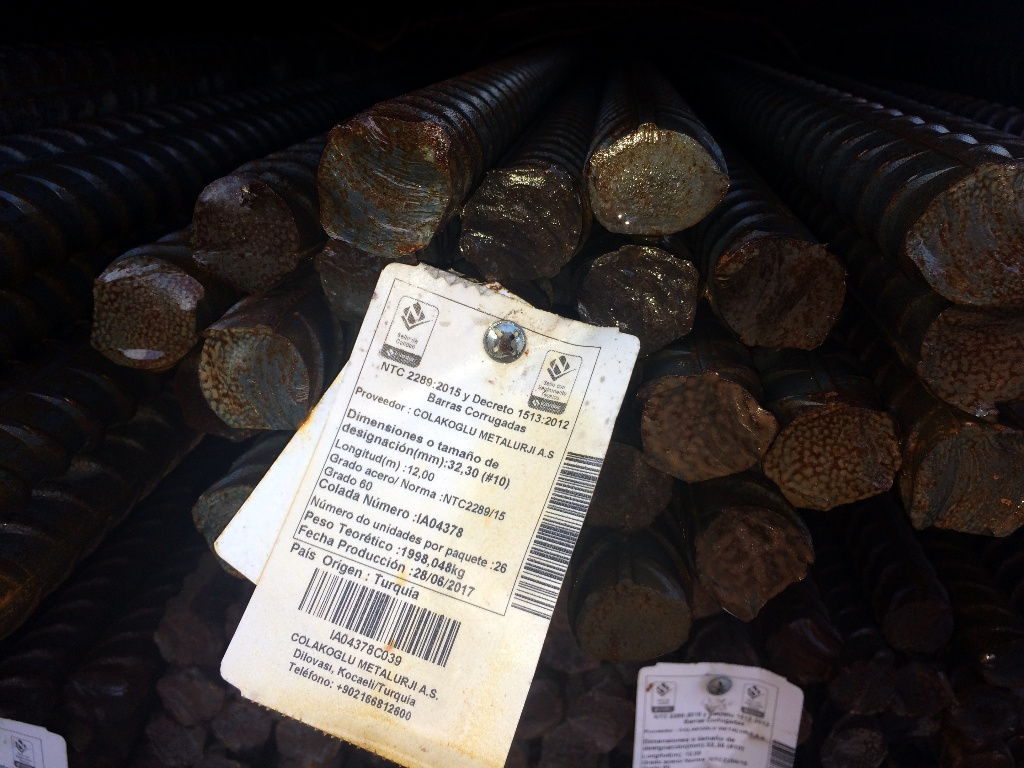dipstick: (323, 124, 448, 260), (708, 242, 849, 348), (914, 167, 1024, 301), (637, 377, 776, 481), (585, 134, 722, 235), (764, 409, 889, 515), (196, 322, 314, 430), (582, 250, 703, 355), (192, 183, 310, 290), (909, 423, 1024, 532), (462, 172, 574, 282), (696, 521, 814, 623), (915, 310, 1024, 409), (97, 273, 200, 376), (585, 586, 688, 664), (578, 447, 672, 532), (196, 483, 267, 561), (876, 589, 957, 657), (772, 615, 840, 683), (271, 709, 343, 768), (831, 653, 891, 722), (151, 670, 228, 721), (954, 688, 1013, 746), (575, 684, 638, 736), (894, 662, 954, 716), (891, 719, 954, 768), (824, 721, 888, 768), (151, 617, 221, 659), (544, 610, 591, 669), (210, 706, 271, 749), (544, 727, 605, 768), (975, 636, 1024, 686), (520, 681, 560, 733)
